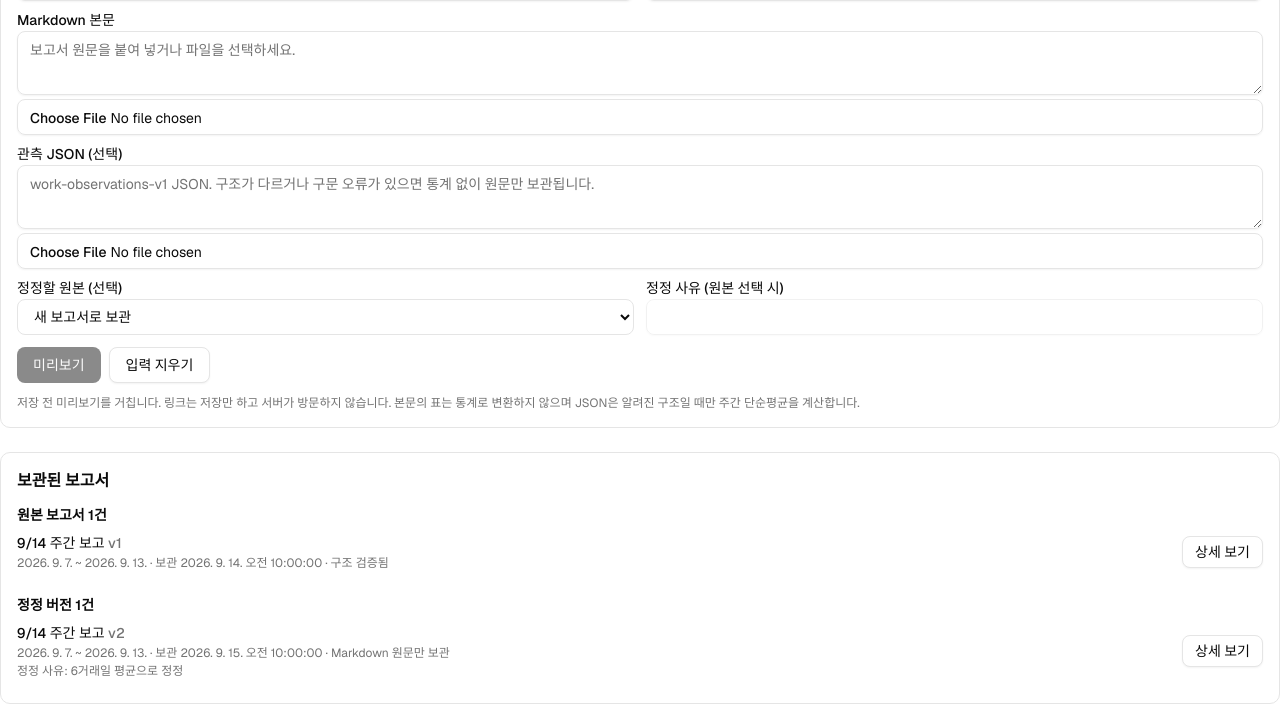
Scenario: lists originals and corrections separately, opens detail with raw text rendered as text, and starts a correction
(page scrolled)
Expected: the heading "원본 보고서 1건" is shown, top-left (17, 506), bottom-right (107, 524)
Expected: the heading "정정 버전 1건" is shown, top-left (17, 596), bottom-right (94, 614)
Click the 1st button "상세 보기" at (1223,552), box top-left (1182, 536), bottom-right (1263, 568)
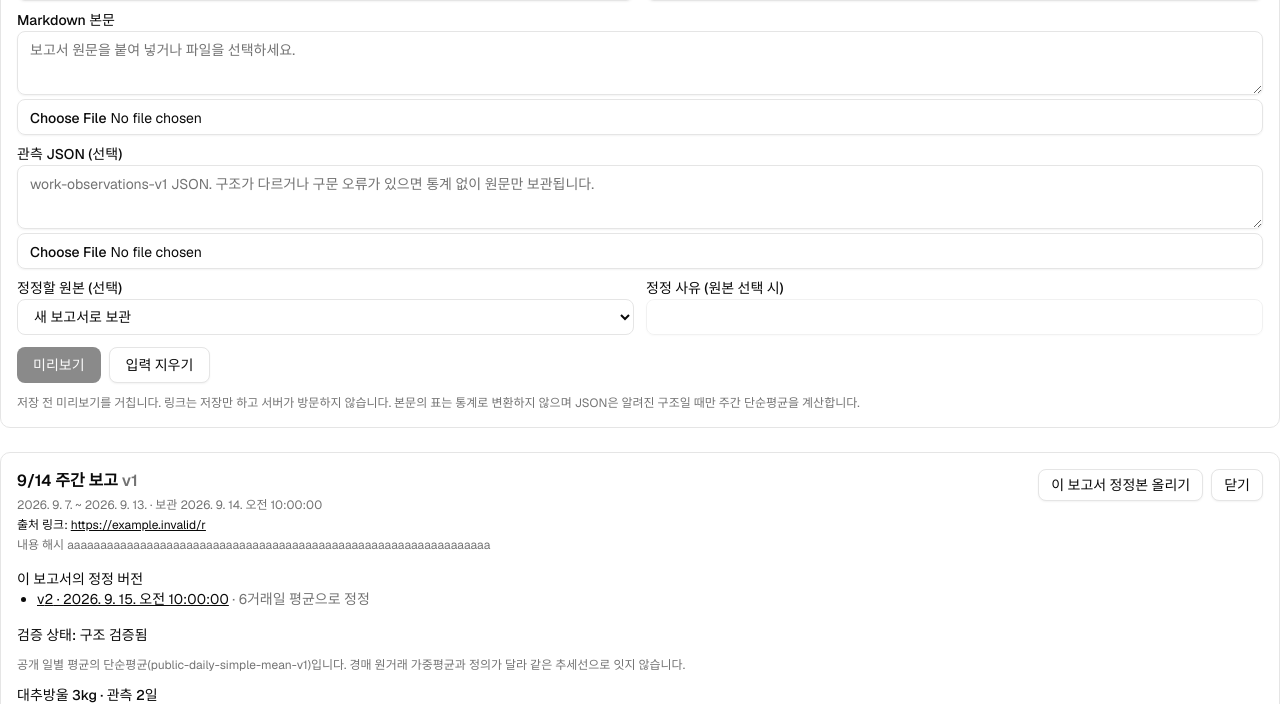
Expected: the text "이 보고서의 정정 버전" is shown, top-left (17, 570), bottom-right (143, 588)
Click the button "v2 · " at (133,599), box top-left (37, 589), bottom-right (229, 609)
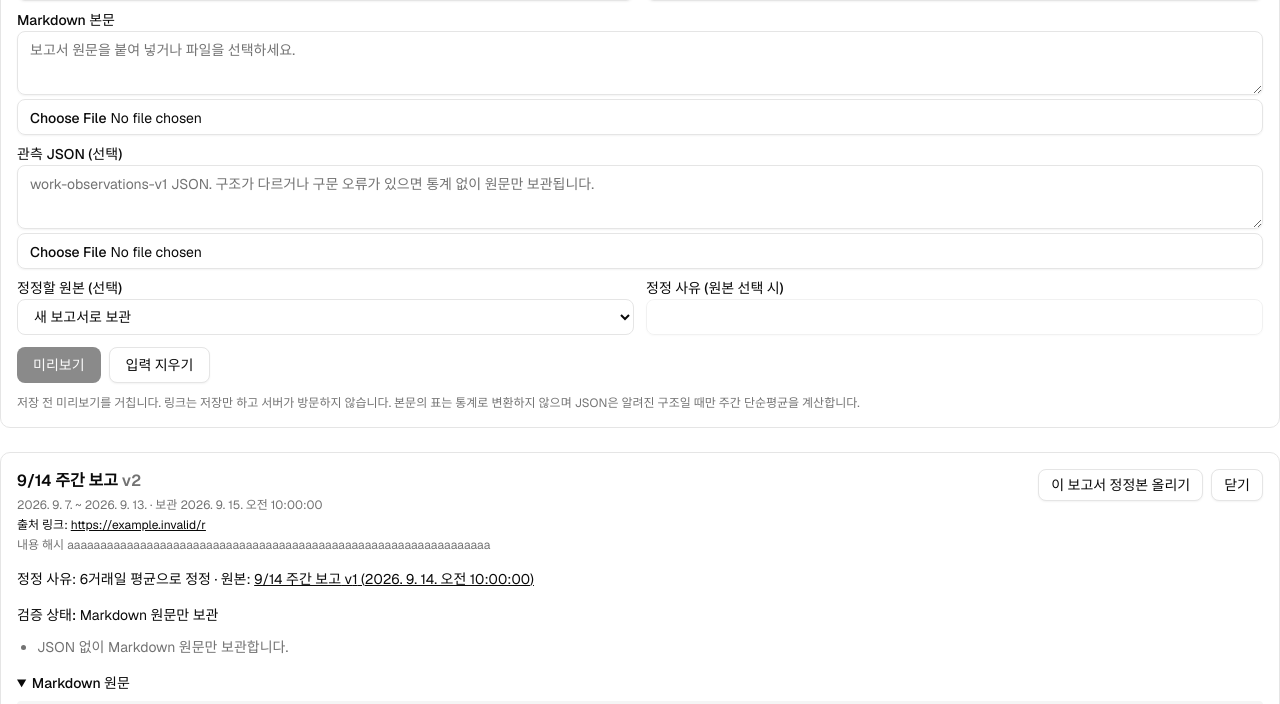
Expected: the text "정정 사유: 6거래일 평균으로 정정 · 원본:" is shown, top-left (17, 569), bottom-right (534, 589)
Expected: the heading "9/14 주간 보고 v2" is shown, top-left (17, 470), bottom-right (141, 491)
Click the button "이 보고서 정정본 올리기" at (1121,485), box top-left (1038, 469), bottom-right (1203, 501)
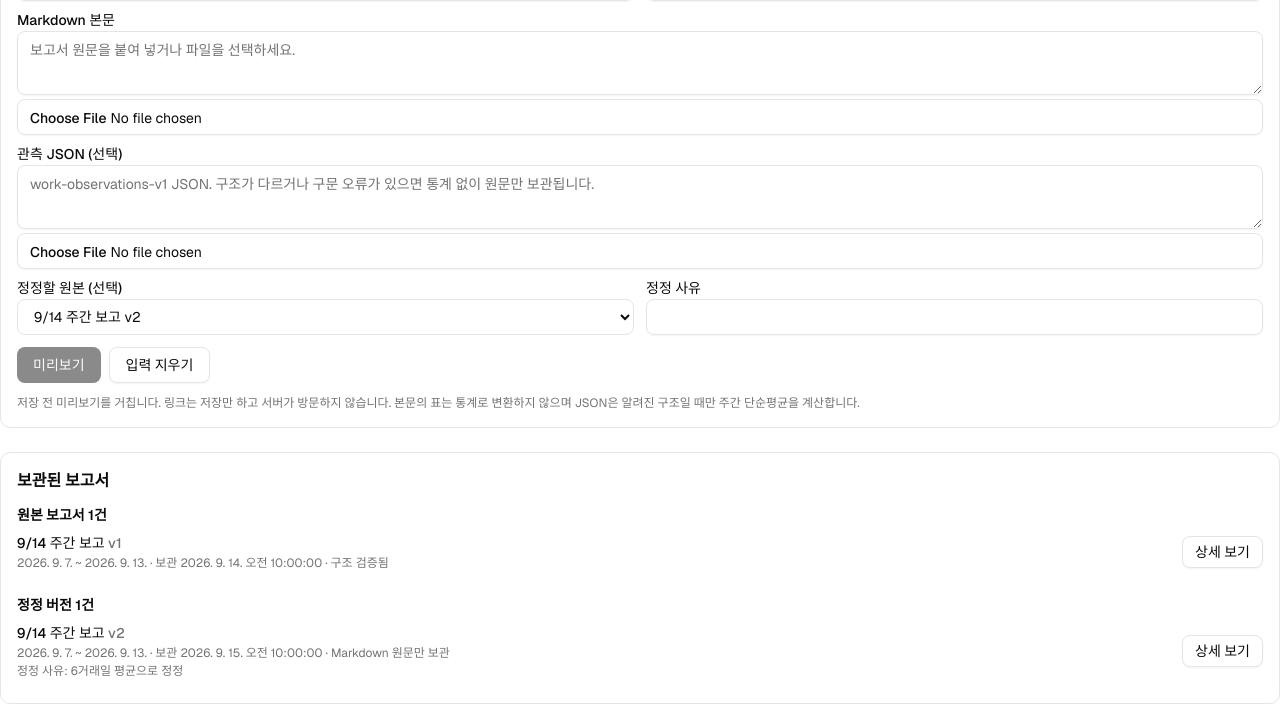
Expected: the dropdown labelled "정정할 원본 (선택)" shows "9/14 주간 보고 v2", top-left (17, 299), bottom-right (634, 335)
Type "# v3" into the text box labelled "Markdown 본문" at (640,63), box top-left (17, 31), bottom-right (1263, 95)
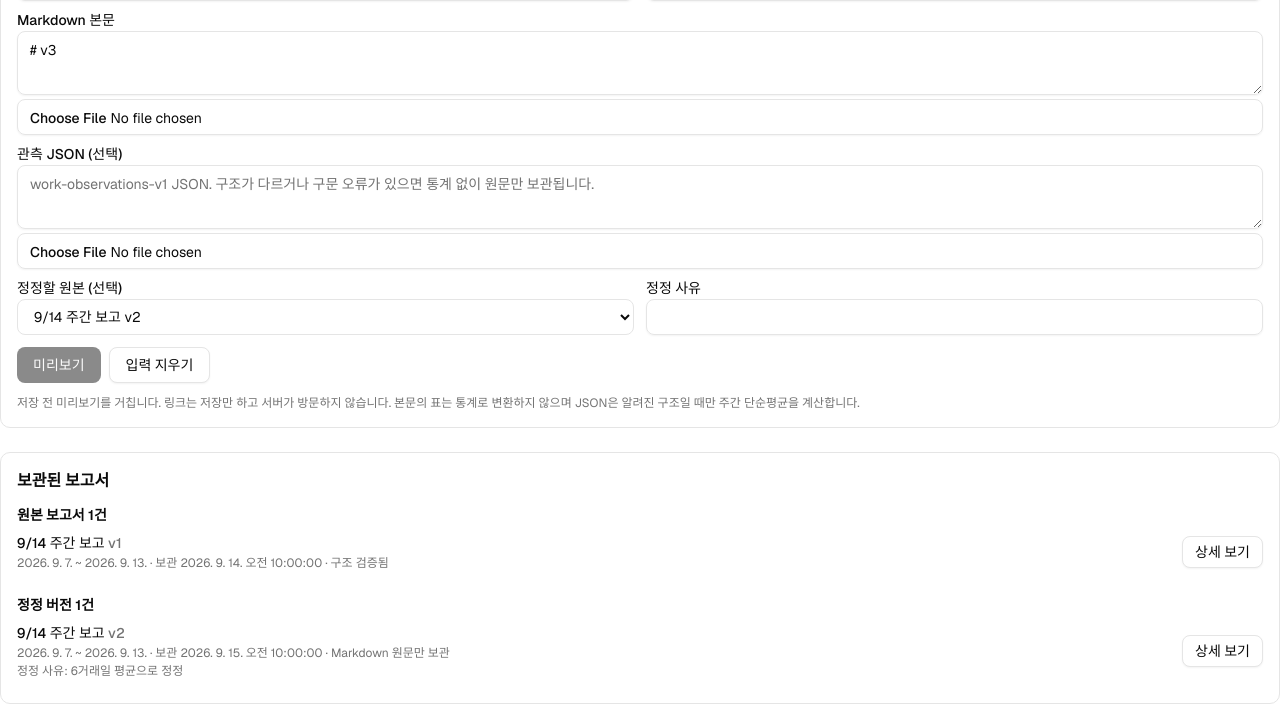
Expected: the button "미리보기" is disabled, top-left (17, 347), bottom-right (100, 383)
Type "재정정" into the field labelled "정정 사유" at (954,317), box top-left (646, 299), bottom-right (1263, 335)
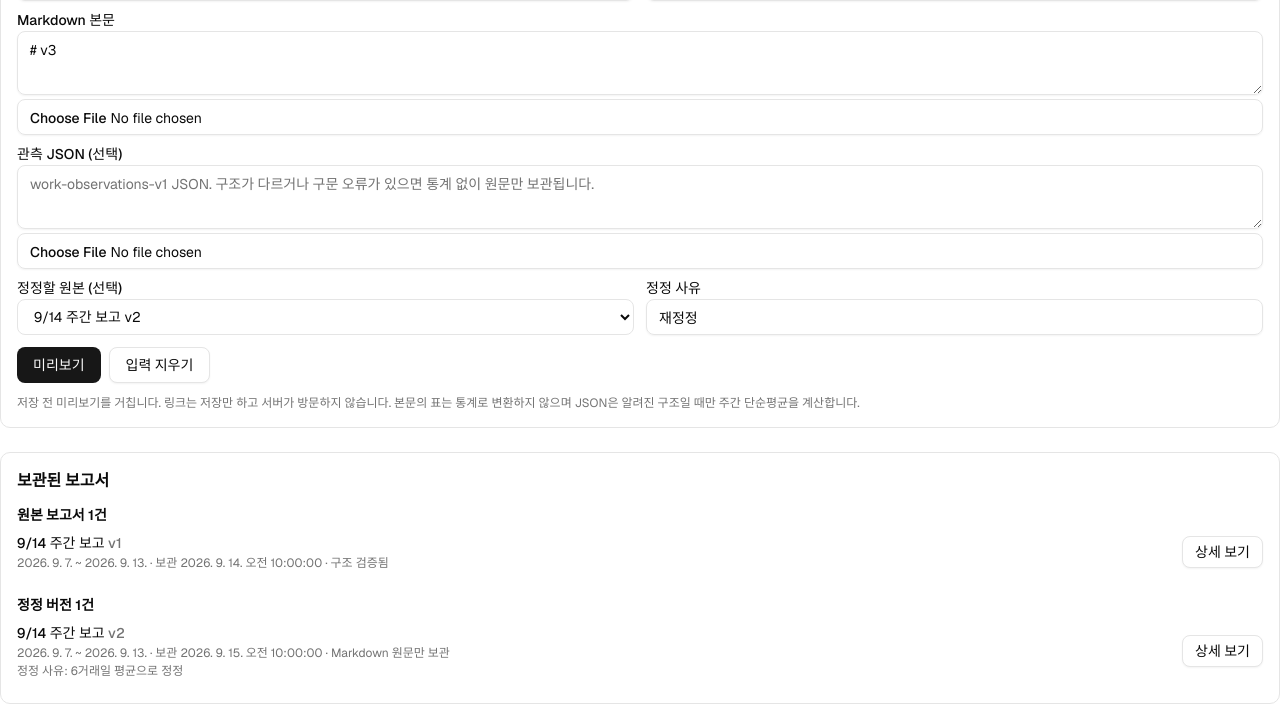
Expected: the button "미리보기" is enabled, top-left (17, 347), bottom-right (100, 383)
